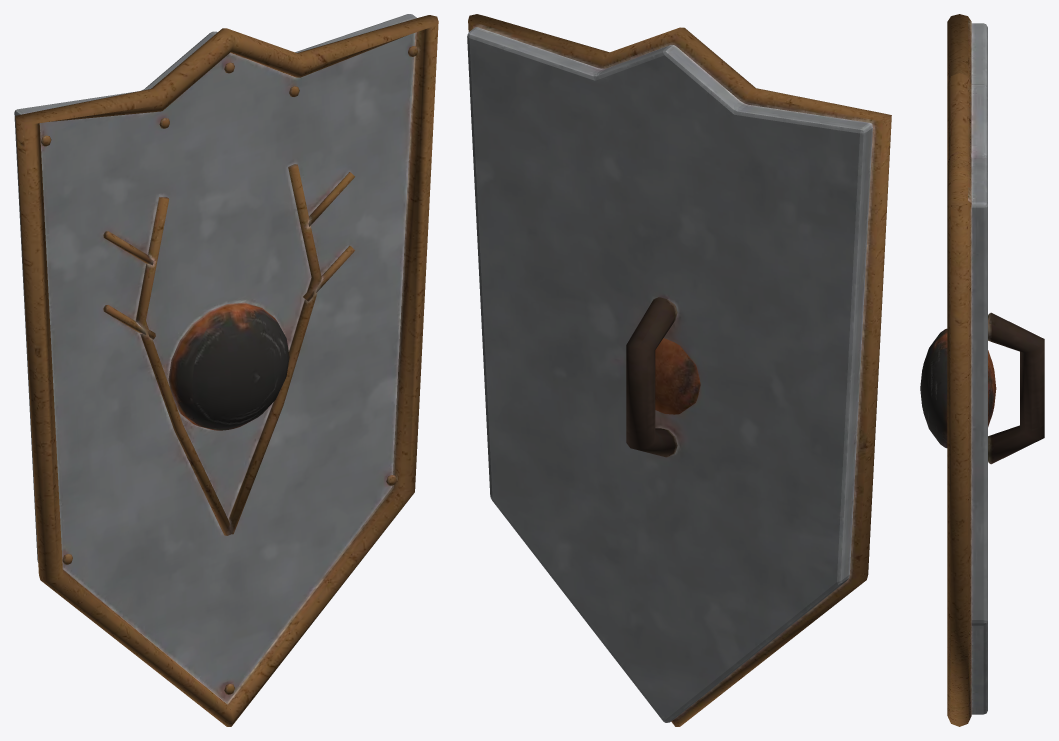
Rendered from eq_shield_3.glb.
3 renders of one model, left to right at view 1: azimuth 30°, elevation 25°; view 2: azimuth 150°, elevation 25°; view 3: azimuth 270°, elevation 25°, orthographic. The views are drawn at different scales.
Visible parts, largest first — view 1: eq_shield_3; view 2: eq_shield_3; view 3: eq_shield_3.
Part boxes in pixels (bbox=[...]): eq_shield_3: bbox=[14, 14, 438, 726]; eq_shield_3: bbox=[467, 14, 891, 726]; eq_shield_3: bbox=[920, 14, 1044, 726].
Size of the model in its own units: 0.7169 by 1.14 by 0.1964.
1 material, 1 textured.
